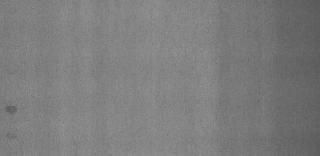oil spot: (4, 102, 20, 114), (4, 130, 20, 142)
